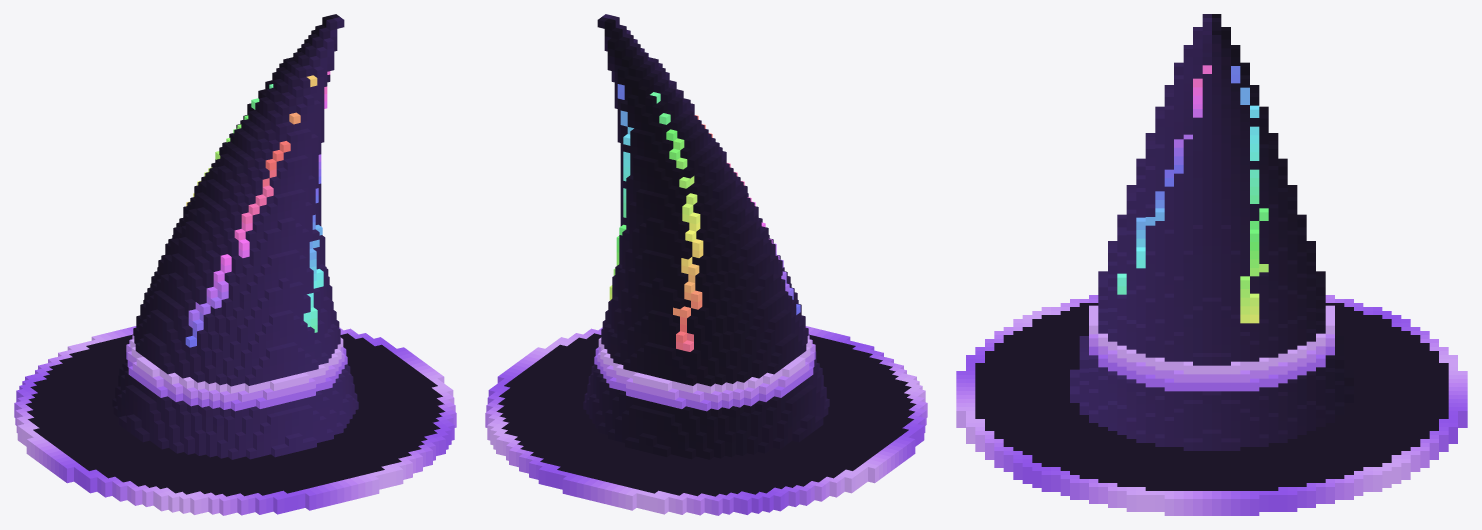
File: owner_arcane_hat.glb
3 views of the same model, side by side, from view 1: azimuth 30°, elevation 25°; view 2: azimuth 150°, elevation 25°; view 3: azimuth 270°, elevation 25° (orthographic). The views are drawn at different scales.
Visible parts, largest first — view 1: Owner Arcane Hat; view 2: Owner Arcane Hat; view 3: Owner Arcane Hat.
Part boxes in pixels (x1,y1,x2,y2): Owner Arcane Hat: [14, 14, 456, 515]; Owner Arcane Hat: [485, 14, 927, 515]; Owner Arcane Hat: [956, 14, 1467, 515].
Bounding box in the file's own units: 0.8438 × 0.8125 × 0.8438.
1 material, 1 textured.
